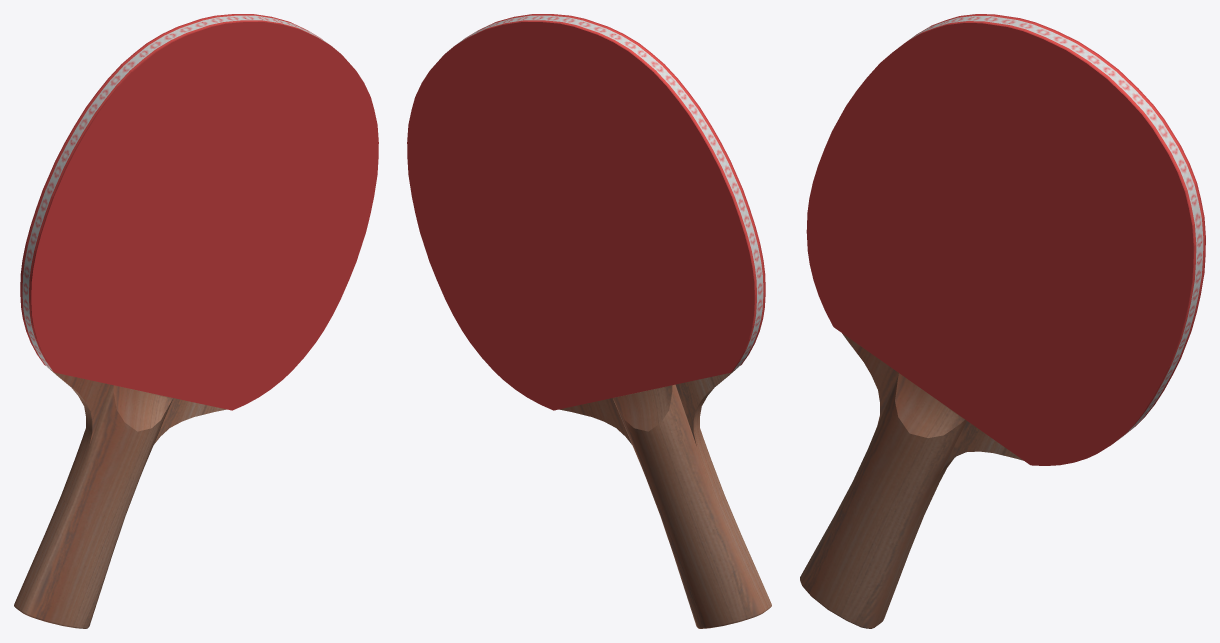
Rendered from pala.glb.
3 renders of one model, left to right at view 1: azimuth 30°, elevation 25°; view 2: azimuth 150°, elevation 25°; view 3: azimuth 330°, elevation 25°, orthographic. The views are drawn at different scales.
Parts seen in each view (by area): view 1: PaddleObj; view 2: PaddleObj; view 3: PaddleObj.
Boxes of the visible parts, left/top/right/bottom form: PaddleObj: left=14, top=14, right=378, bottom=628; PaddleObj: left=407, top=14, right=771, bottom=628; PaddleObj: left=800, top=14, right=1205, bottom=628.
Bounding box in the file's own units: 6.27 × 9.65 × 0.7656.
5 materials, 5 textured.
